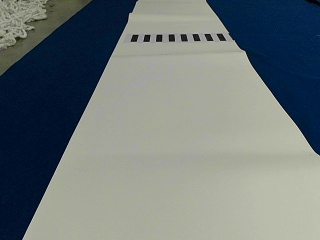crosswalk: (129, 31, 227, 42)
